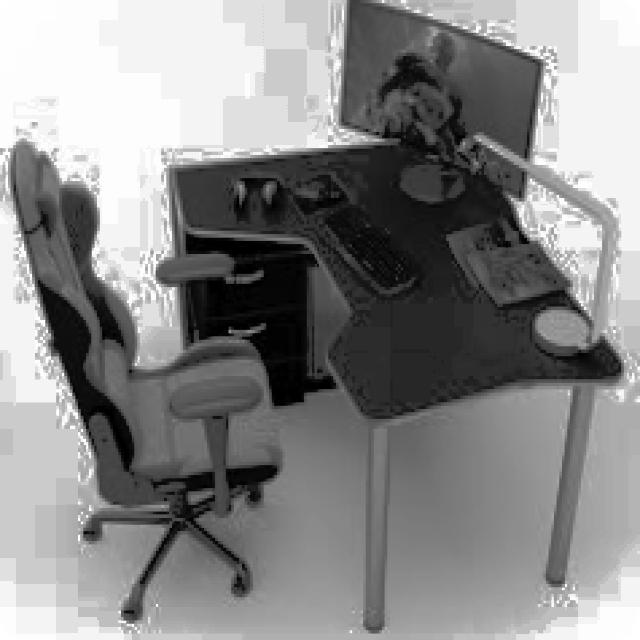book: (13, 139, 285, 620)
table: (169, 135, 624, 630)
